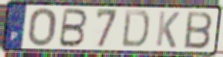7: (95, 8, 119, 50)
B: (57, 7, 89, 49), (183, 10, 214, 50)
D: (120, 9, 151, 50)
K: (154, 10, 181, 50)
O: (27, 7, 58, 48)
